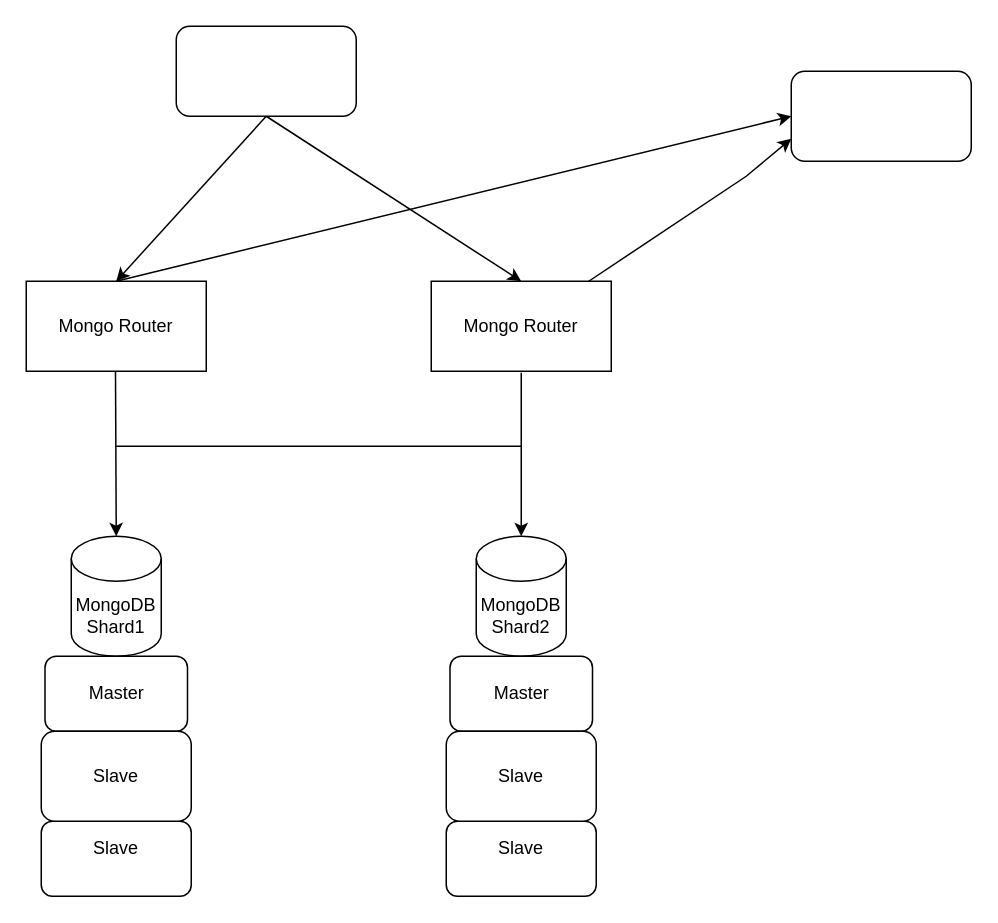
The diagram is 998 pixels wide and 923 high, and some of its shapes have lost their labels. Each missing label, with the centre of its shape:
"Mongo Config Server Replica Set (2 pods)" goes at pixel 880 115.
"pymongo-api" goes at pixel 265 70.
